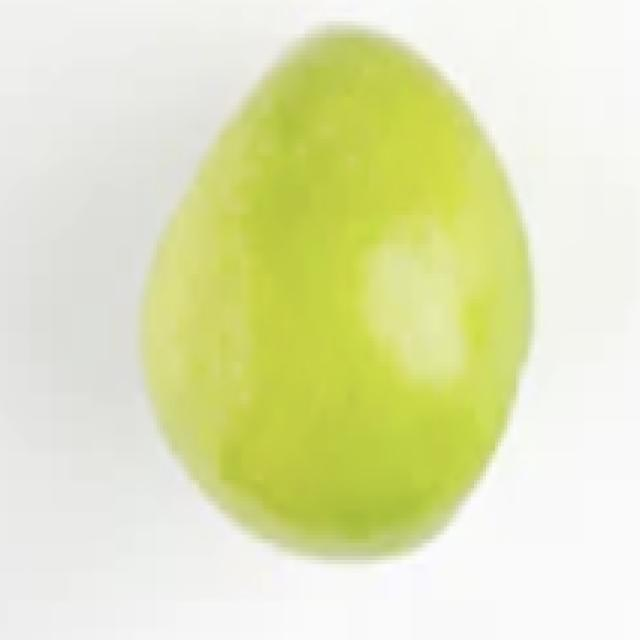Apple: (138, 20, 536, 561)
